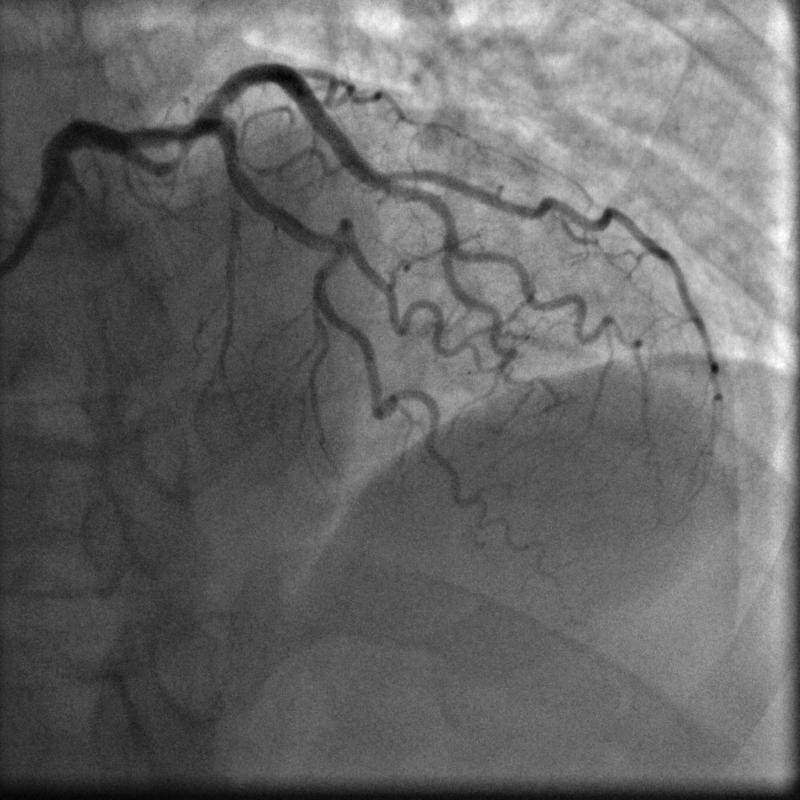Stenosis: (156, 136, 194, 172)
